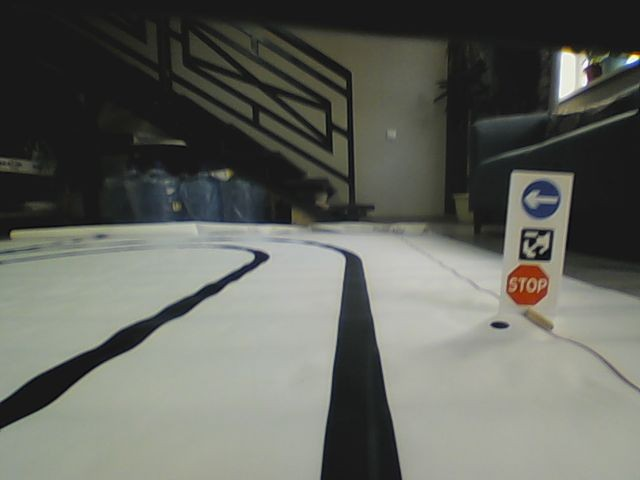Stop: (504, 263, 551, 305)
